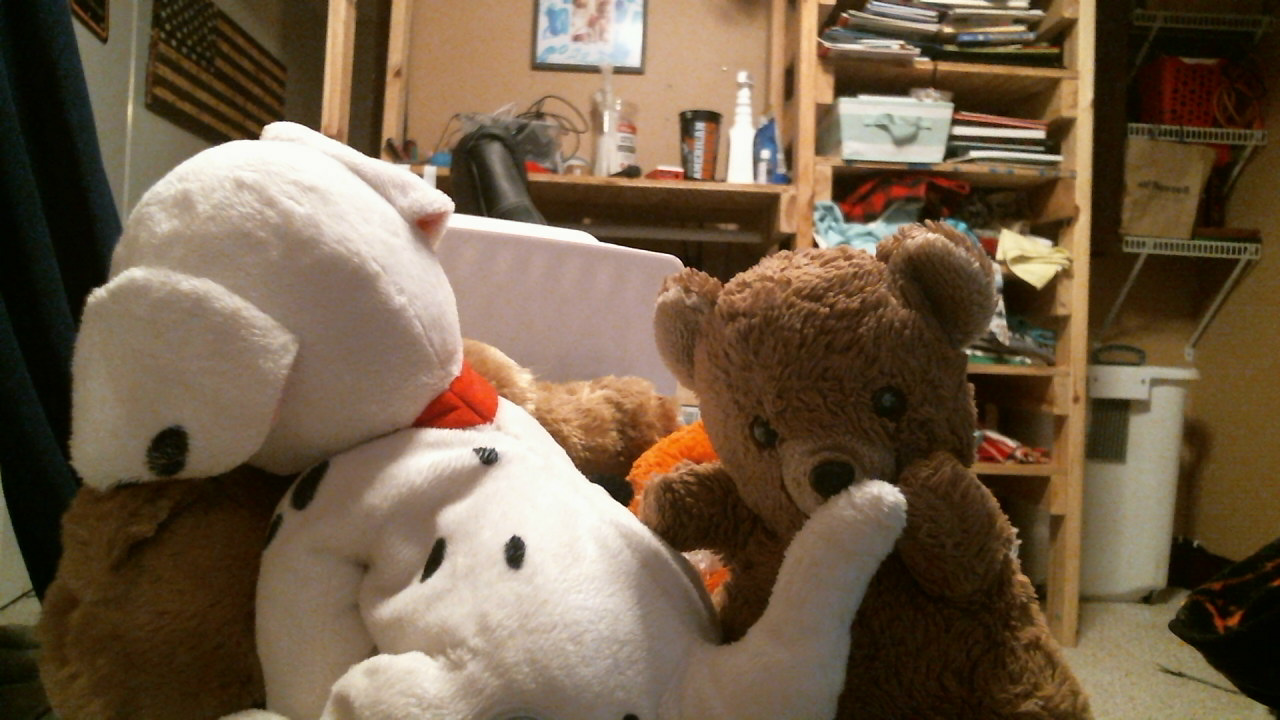Little_Mister_Bear: (740, 377, 927, 500)
